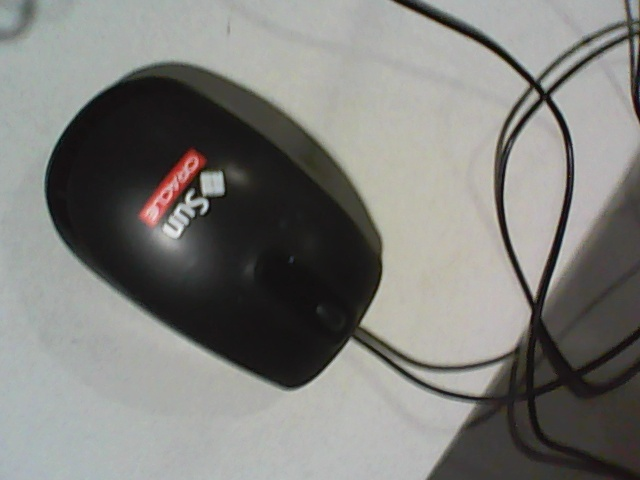mouse: (45, 77, 382, 390)
